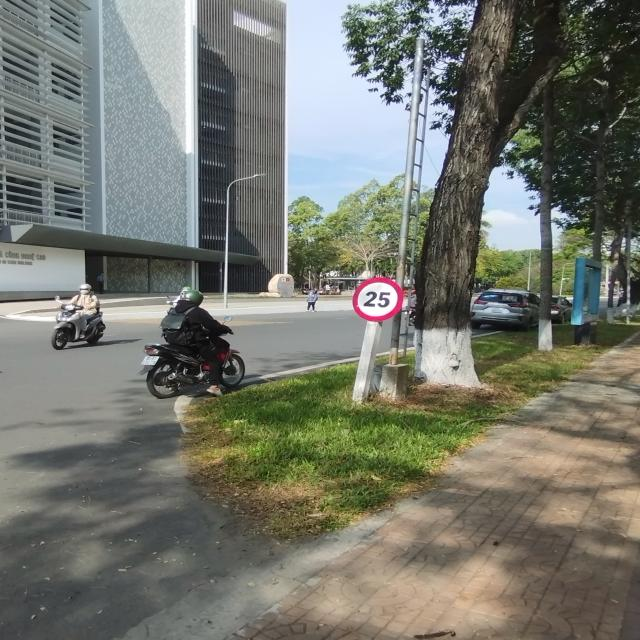Tre_Em: (352, 278, 403, 322)
